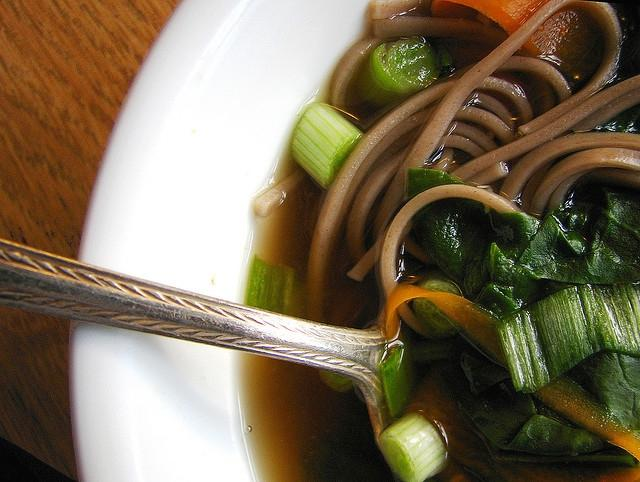carrot: (386, 285, 638, 460), (431, 0, 549, 37)
green onion: (292, 100, 364, 191), (356, 37, 441, 109), (378, 413, 444, 482), (381, 330, 421, 420), (244, 251, 294, 315), (412, 276, 463, 338), (319, 369, 357, 392)
